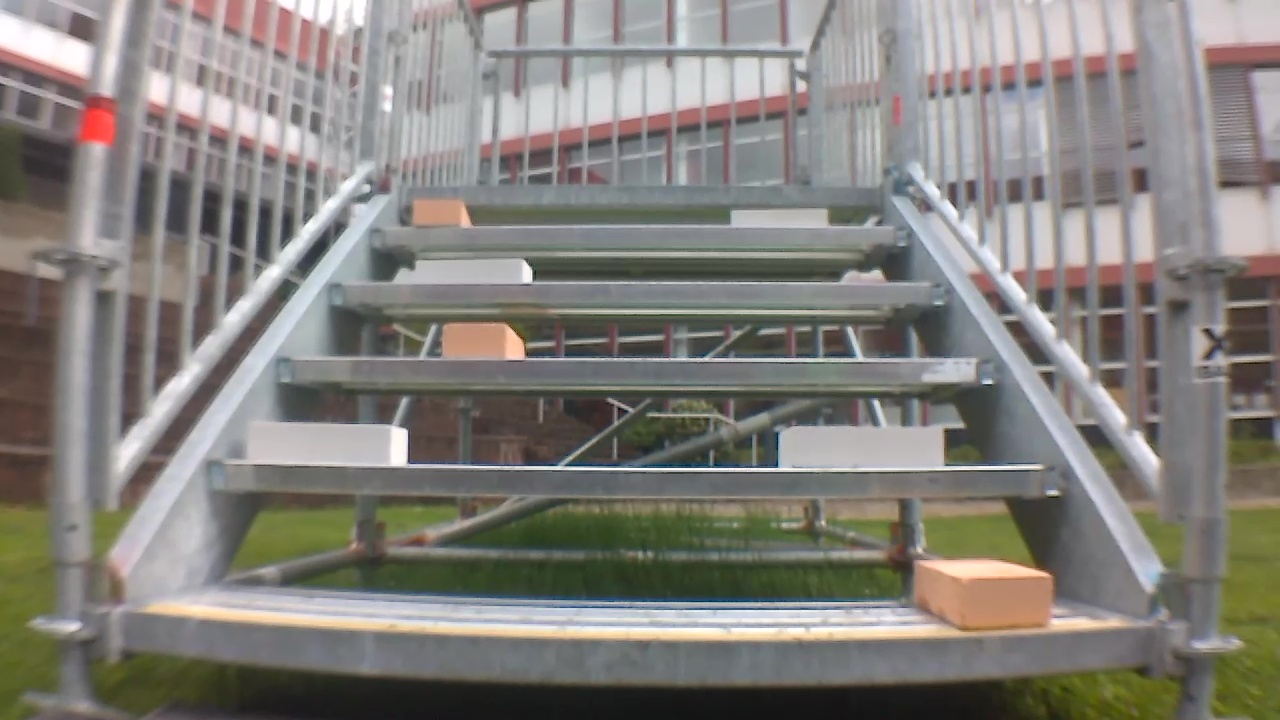brick: (915, 560, 1051, 629), (246, 421, 407, 466), (777, 426, 942, 466), (443, 322, 524, 359), (416, 260, 531, 283), (731, 209, 827, 228), (414, 199, 469, 225)
edge: (125, 611, 1147, 684), (211, 463, 1065, 499), (277, 358, 1005, 383), (327, 282, 954, 303), (372, 225, 912, 248), (404, 185, 878, 207)
stairs: (37, 2, 1239, 717)
steps: (116, 181, 1155, 690)
